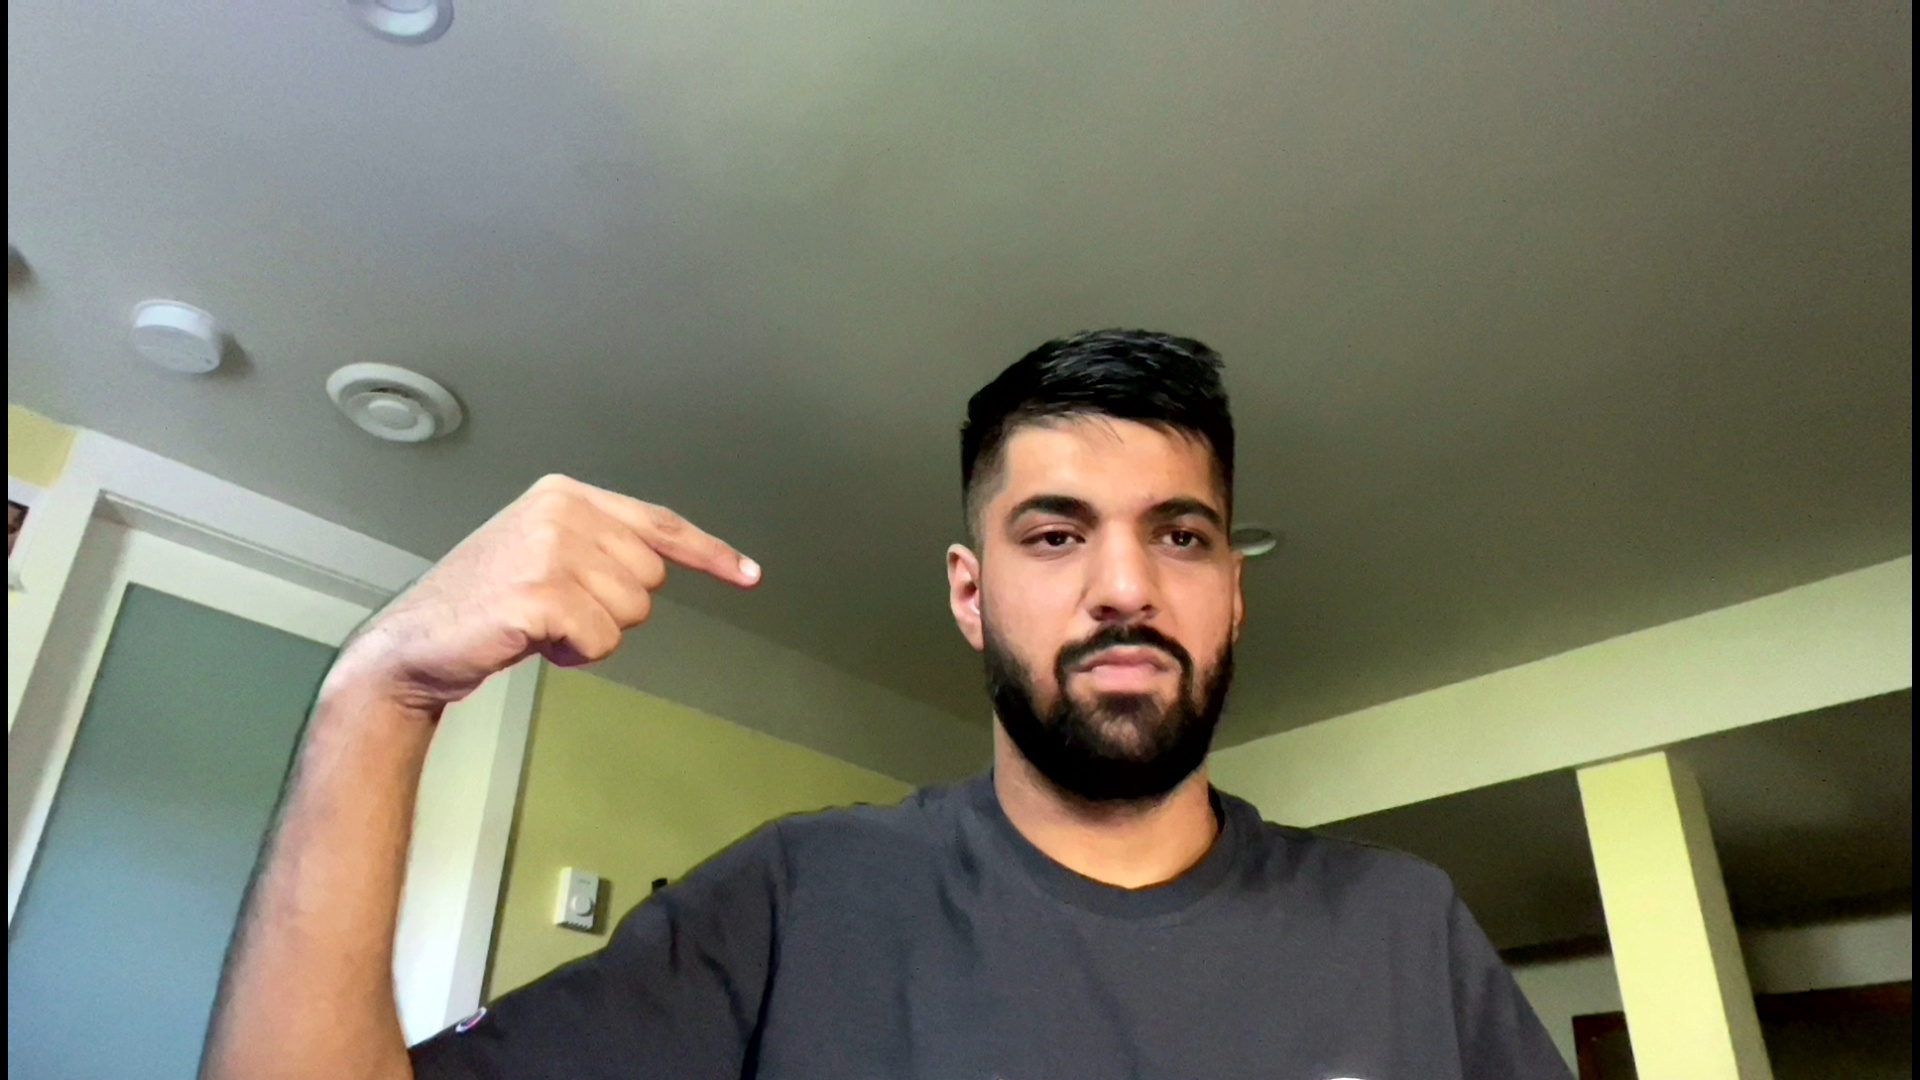Vikrant: (349, 430, 785, 715)
